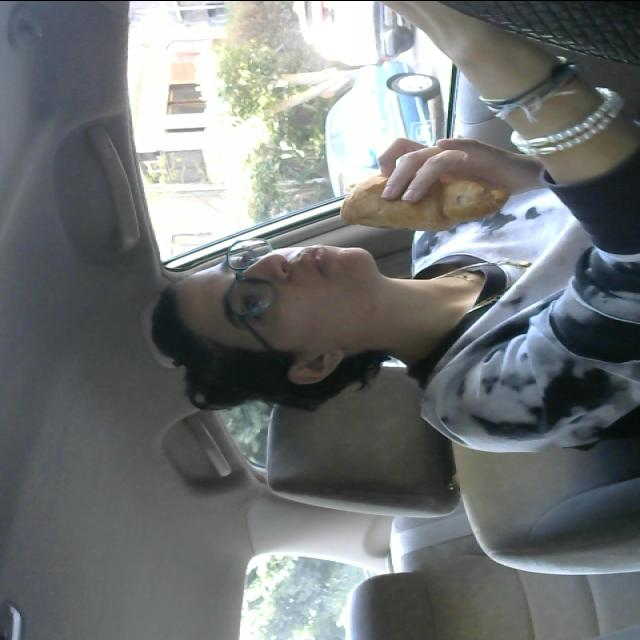eating: (336, 163, 516, 229)
